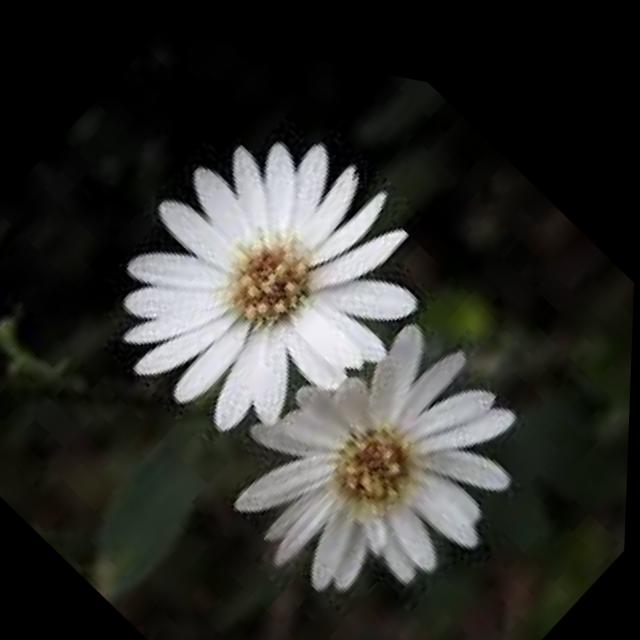Flower: (66, 37, 465, 498), (206, 245, 571, 640)
